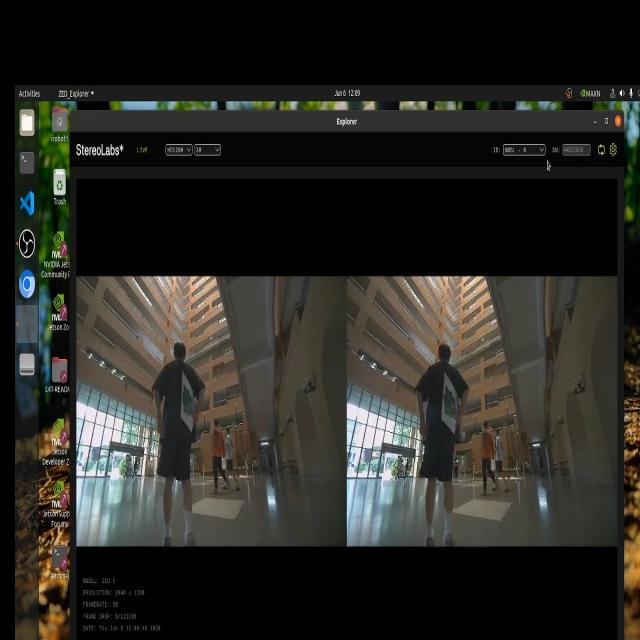green: (443, 384, 462, 426), (175, 383, 198, 414)
